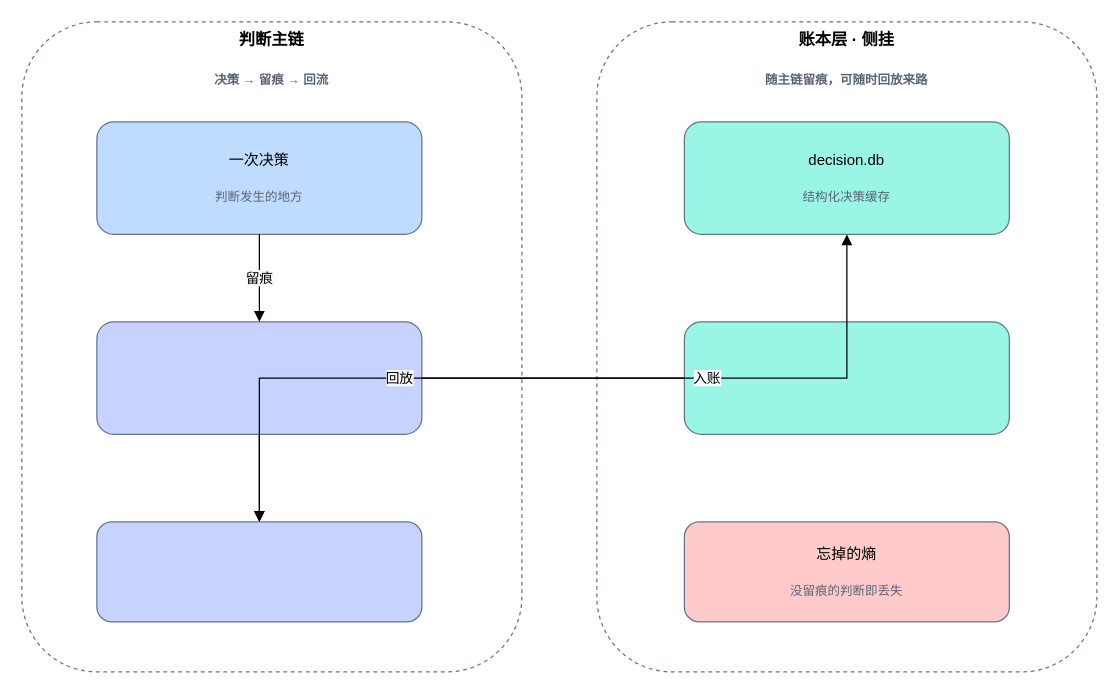
This 1119x694 diagram has some shape labels left out. Here are the shapes that lost their labels. From the top down, the box of each, then its label:
(96, 321, 422, 434): 留痕记录 谁判的 · 依据什么 · 怎么复核
(683, 321, 1009, 434): 审计链 · 可回放 每一步都有快照
(96, 521, 422, 622): 回流成规 把账本里的结论编译回规则
